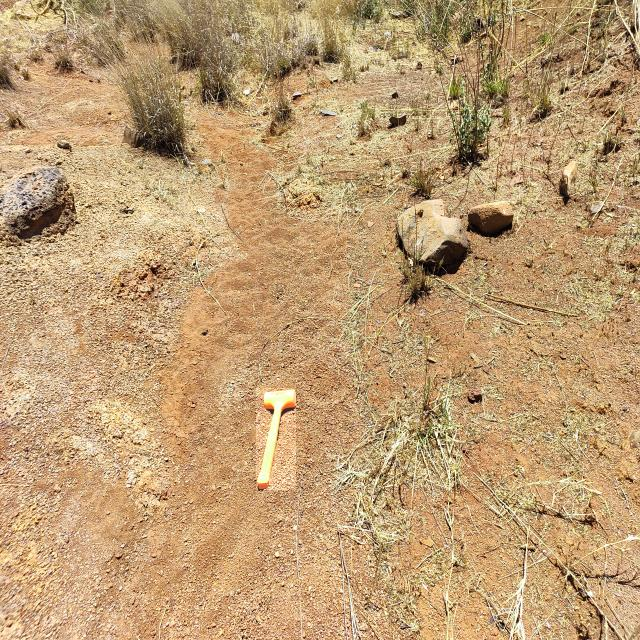Orange_hammer: (256, 388, 296, 490)
